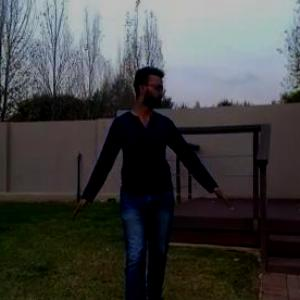land: (59, 71, 237, 299)
